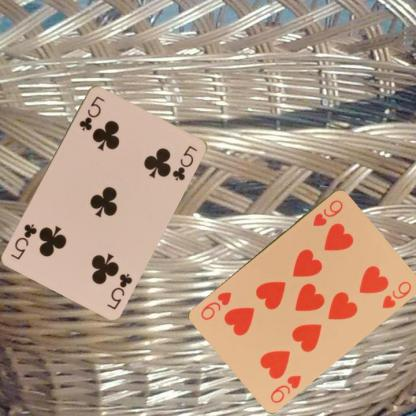5c: (76, 93, 106, 132), (104, 270, 133, 310)
9h: (310, 196, 344, 228), (268, 372, 302, 404)
